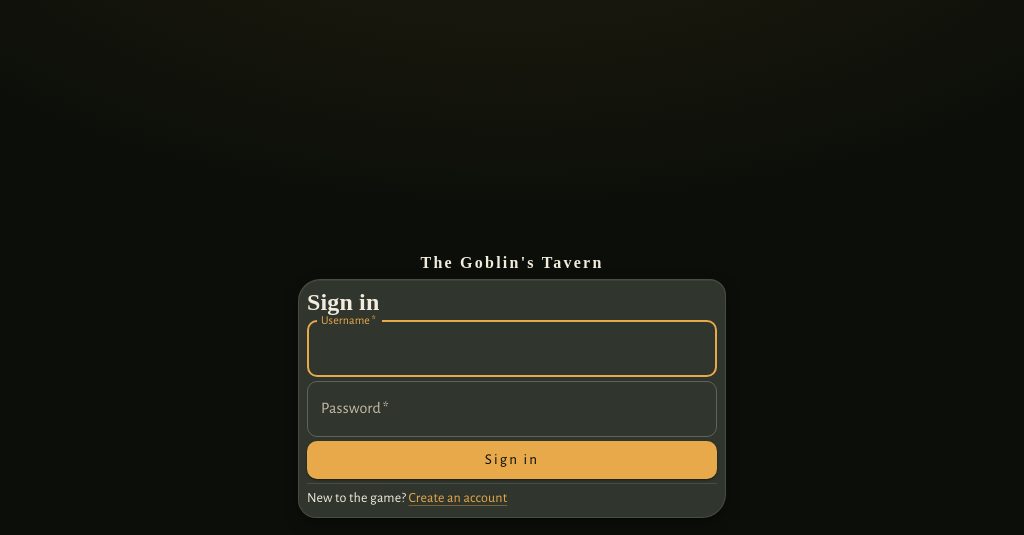
Test: SignInRoute (UI-1 … UI-12) › UI-12: on success, navigates to / via replace and moves focus to the greeting, which is the home h1
Type "thorin" into the field labelled "Username *" at (512, 349), box [307, 321, 717, 377]
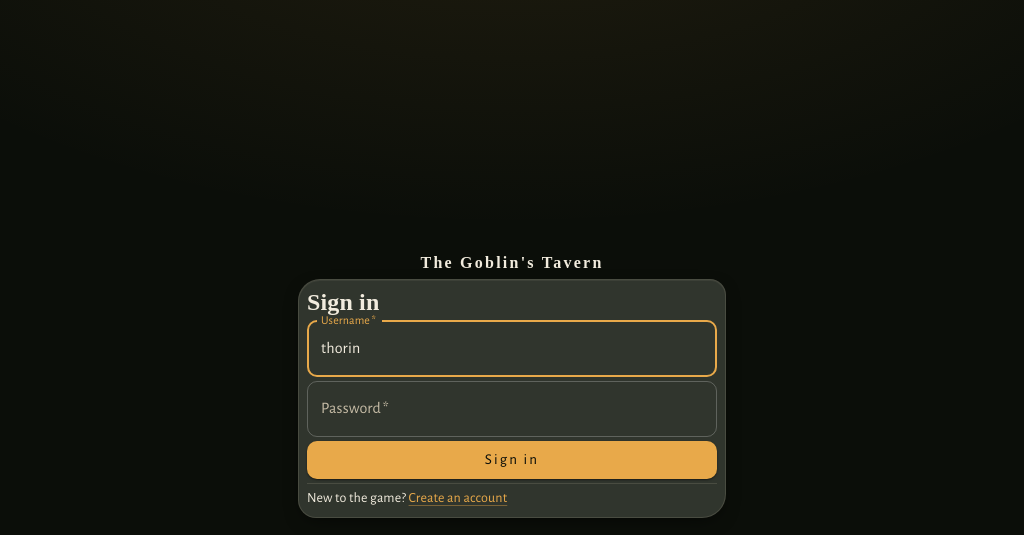
Type "hunter-of-orcs" into the password field labelled "Password *" at (512, 409), box [307, 381, 717, 437]
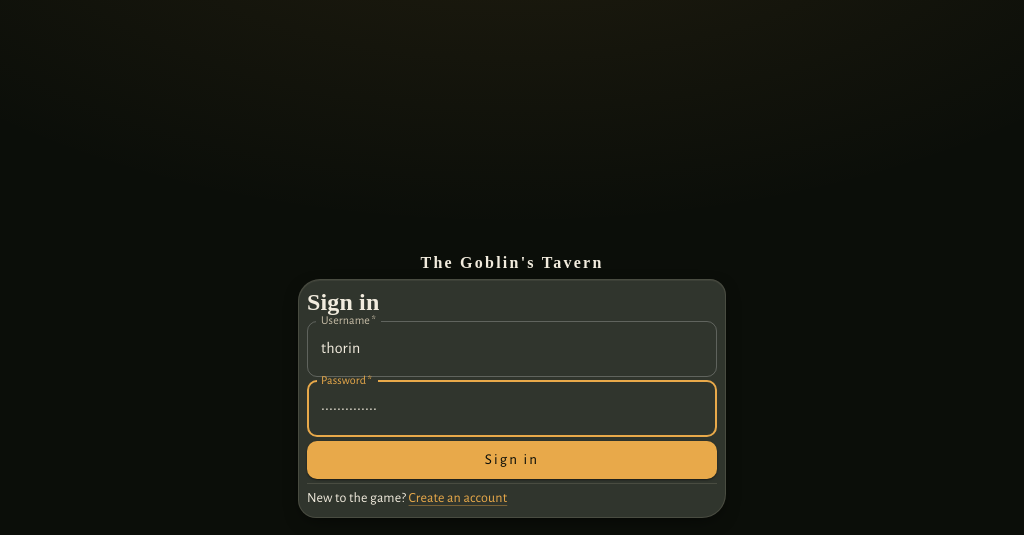
Click the button "Sign in" at (512, 460), box [307, 441, 717, 479]
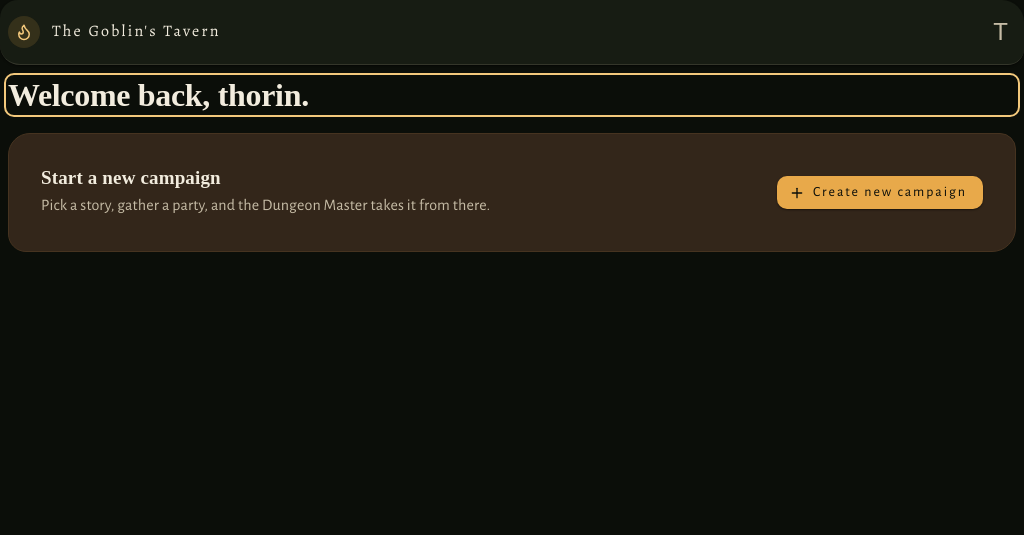
Check: the heading shows "thorin", box [8, 77, 309, 113]
